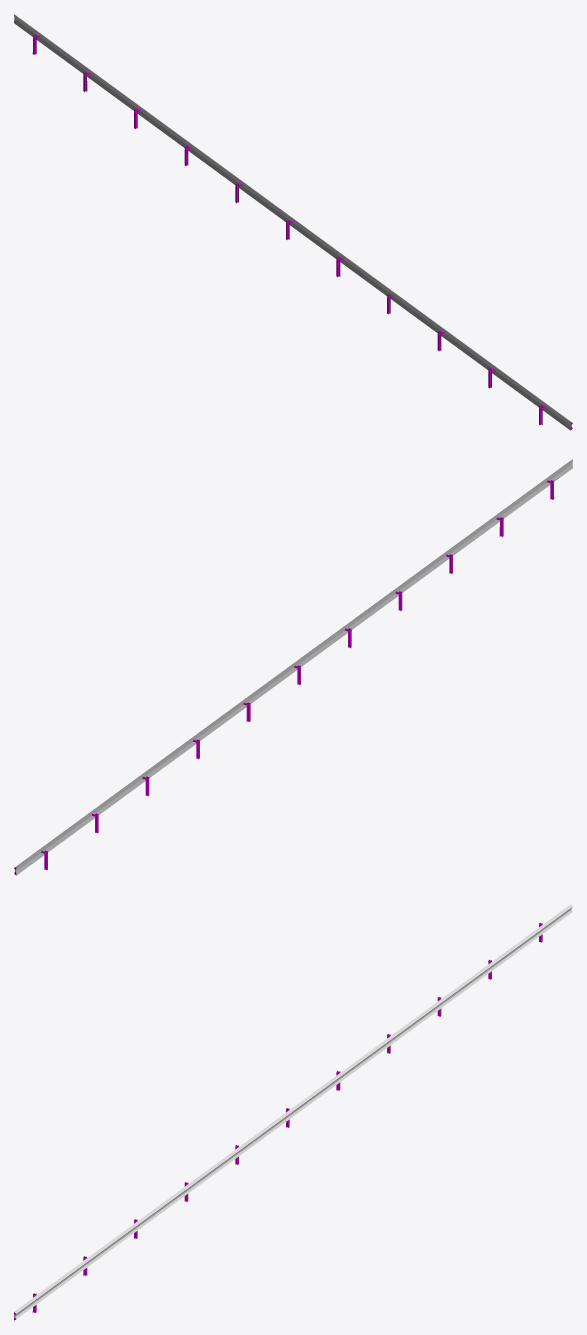
Rendered from Left Steel Barrier.fbx.
3 renders of one model, top to bottom at view 1: azimuth 30°, elevation 25°; view 2: azimuth 150°, elevation 25°; view 3: azimuth 330°, elevation 25°, orthographic.
Visible parts, largest first — view 1: 53. Steel Barrier [sngl L]; view 2: 53. Steel Barrier [sngl L]; view 3: 53. Steel Barrier [sngl L].
Part boxes in pixels (bbox=[...]): 53. Steel Barrier [sngl L]: bbox=[14, 14, 572, 430]; 53. Steel Barrier [sngl L]: bbox=[14, 459, 572, 875]; 53. Steel Barrier [sngl L]: bbox=[14, 904, 572, 1320].
Size of the model in its own units: 57.2 by 130 by 6400.
